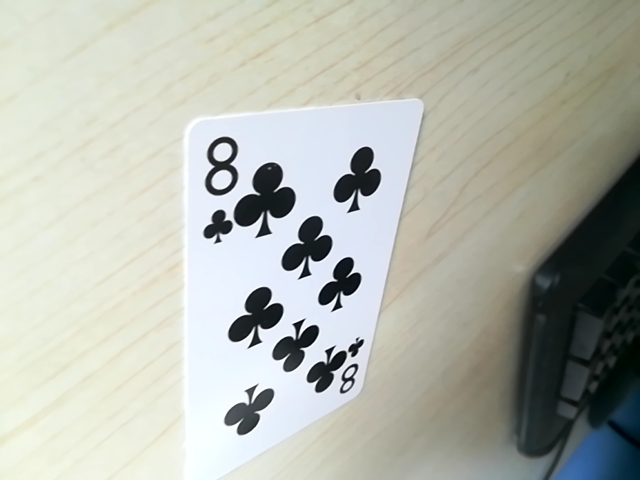mh 8: (194, 123, 244, 241), (312, 346, 366, 402)
